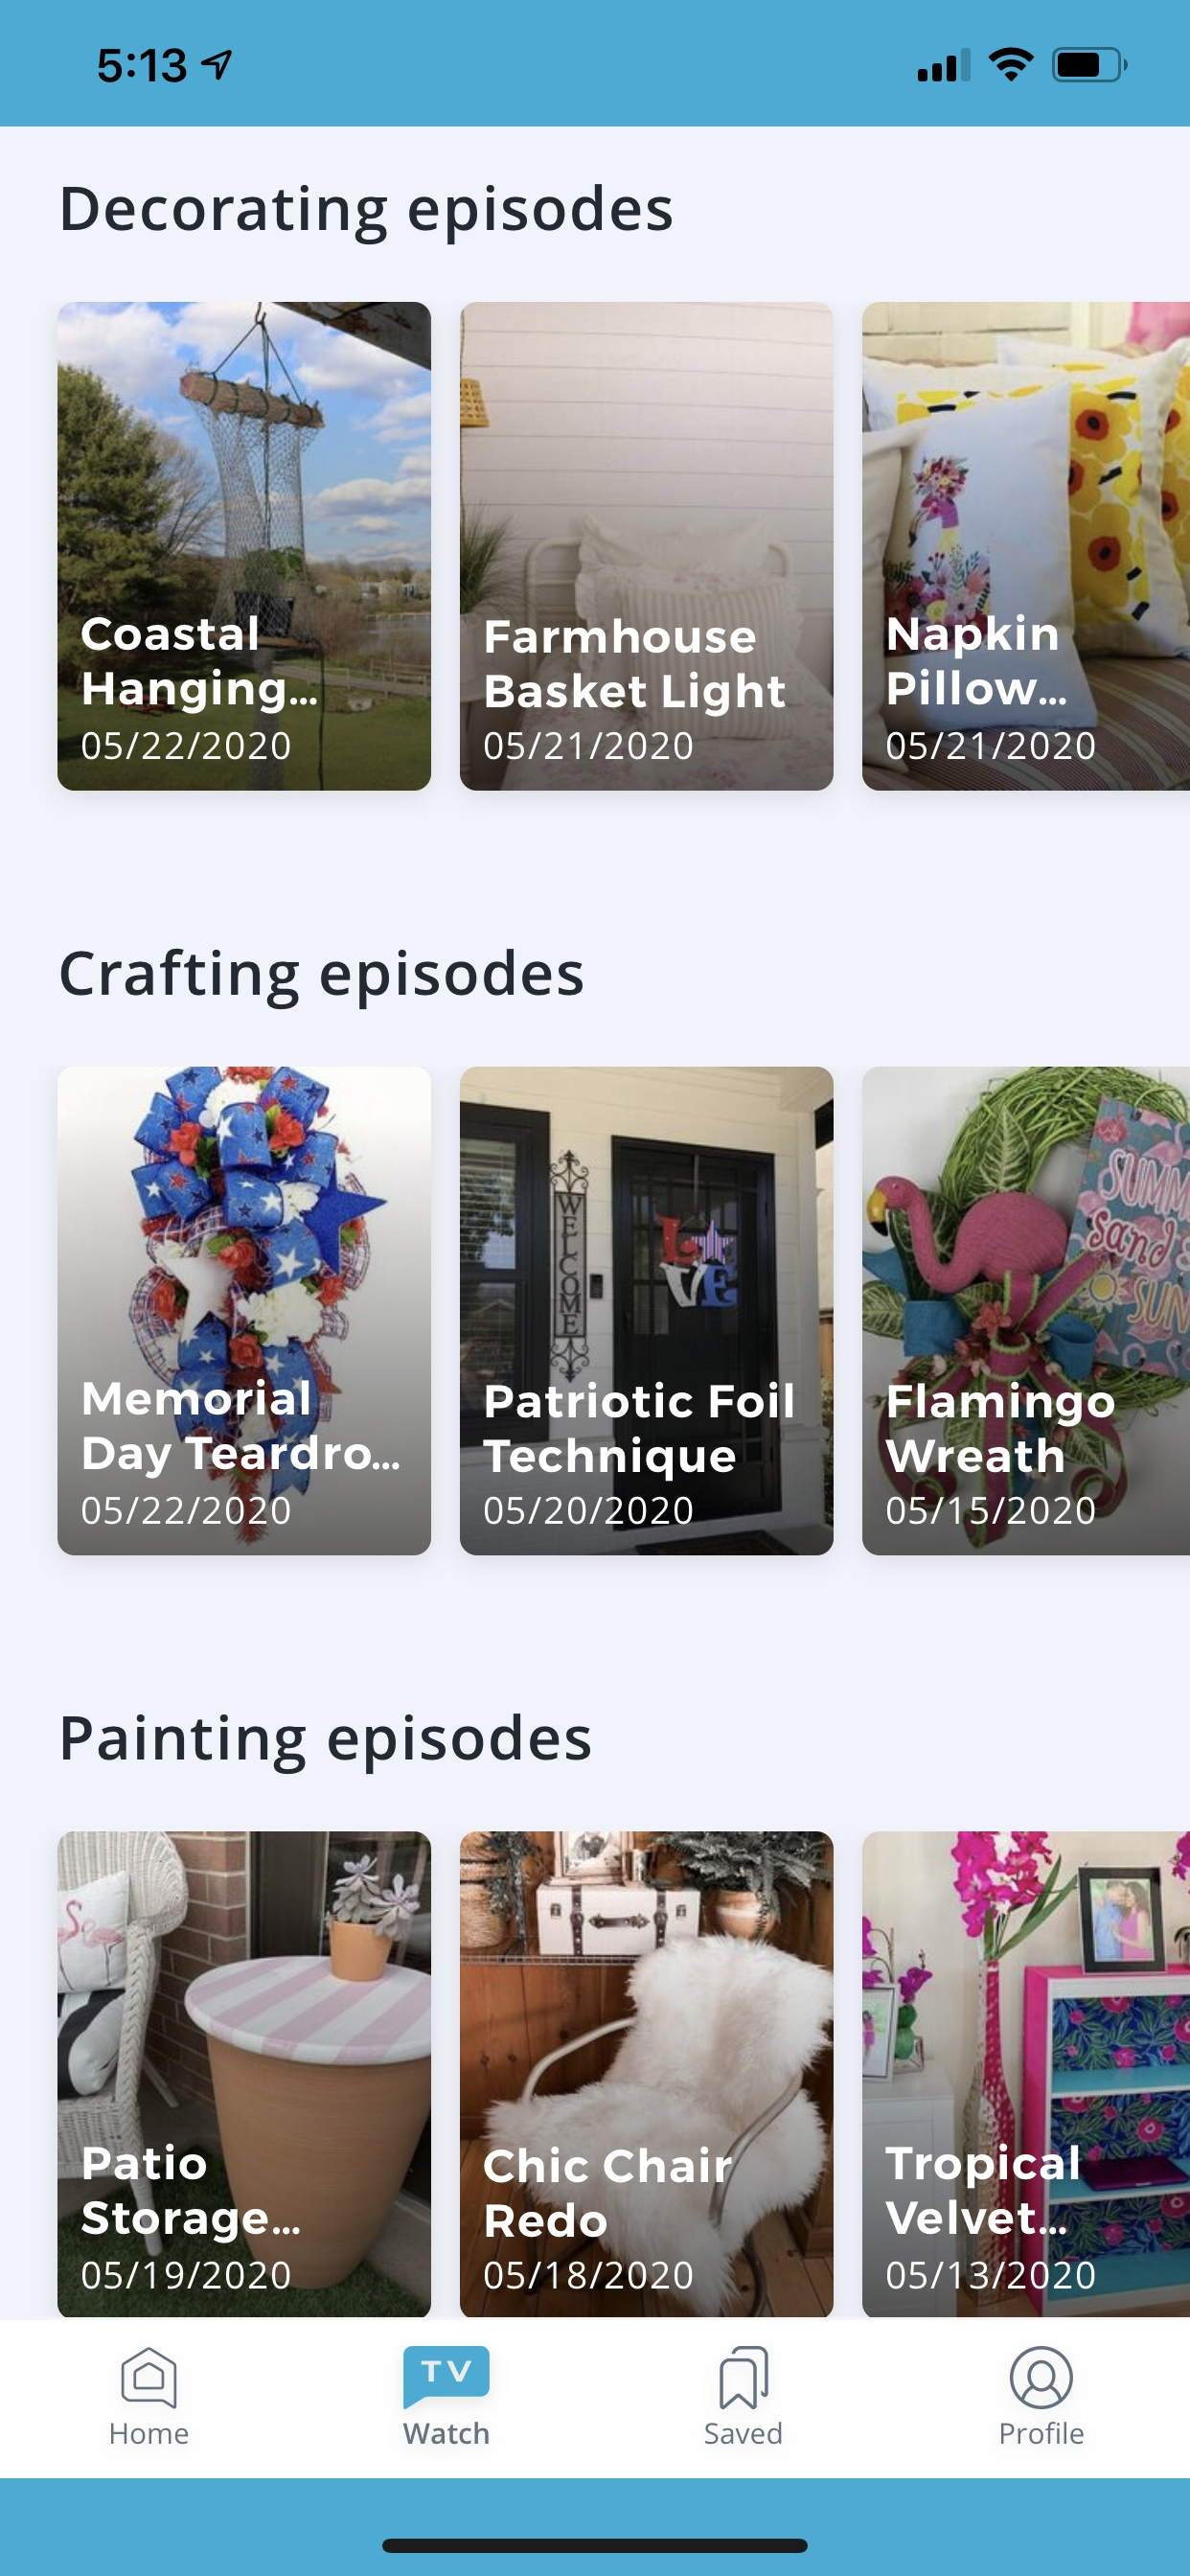Icon: (403, 2344, 490, 2408), (1009, 2344, 1073, 2408), (120, 2346, 178, 2408), (720, 2344, 769, 2408)
Image: (58, 1066, 432, 1556), (459, 302, 833, 790), (460, 1066, 833, 1556), (58, 302, 431, 792), (58, 1830, 432, 2316), (460, 1830, 833, 2316), (861, 1066, 1190, 1556), (861, 302, 1190, 792), (861, 1832, 1190, 2316)
Text: (62, 187, 672, 246), (62, 1712, 590, 1774), (84, 1377, 401, 1479), (61, 950, 583, 1010), (483, 1382, 794, 1482), (487, 618, 786, 716), (82, 614, 317, 715), (483, 2146, 731, 2238), (82, 2142, 301, 2244), (884, 1382, 1114, 1474), (884, 2142, 1078, 2234), (888, 613, 1067, 705), (483, 1495, 692, 1526), (886, 2261, 1095, 2290), (483, 2261, 692, 2290), (82, 2261, 291, 2290), (886, 731, 1095, 761), (888, 1497, 1095, 1526), (485, 731, 692, 761), (82, 1497, 291, 1525), (82, 733, 291, 761), (403, 2422, 488, 2445), (1001, 2422, 1083, 2445), (112, 2422, 189, 2445), (705, 2422, 782, 2445)
UpperTaskBar: (97, 48, 1128, 84)
